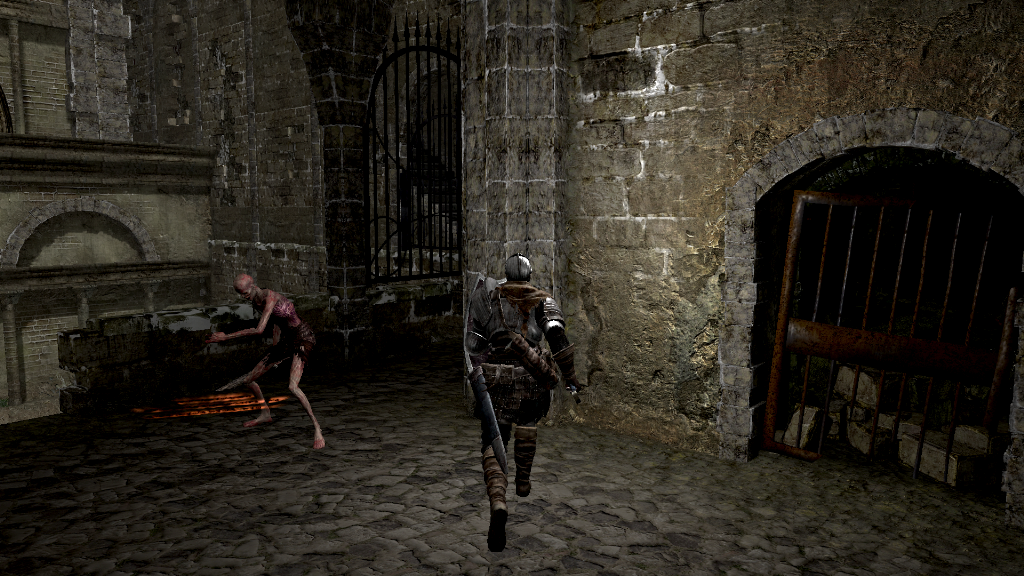hollow: (202, 273, 325, 448)
player: (460, 255, 583, 552)
